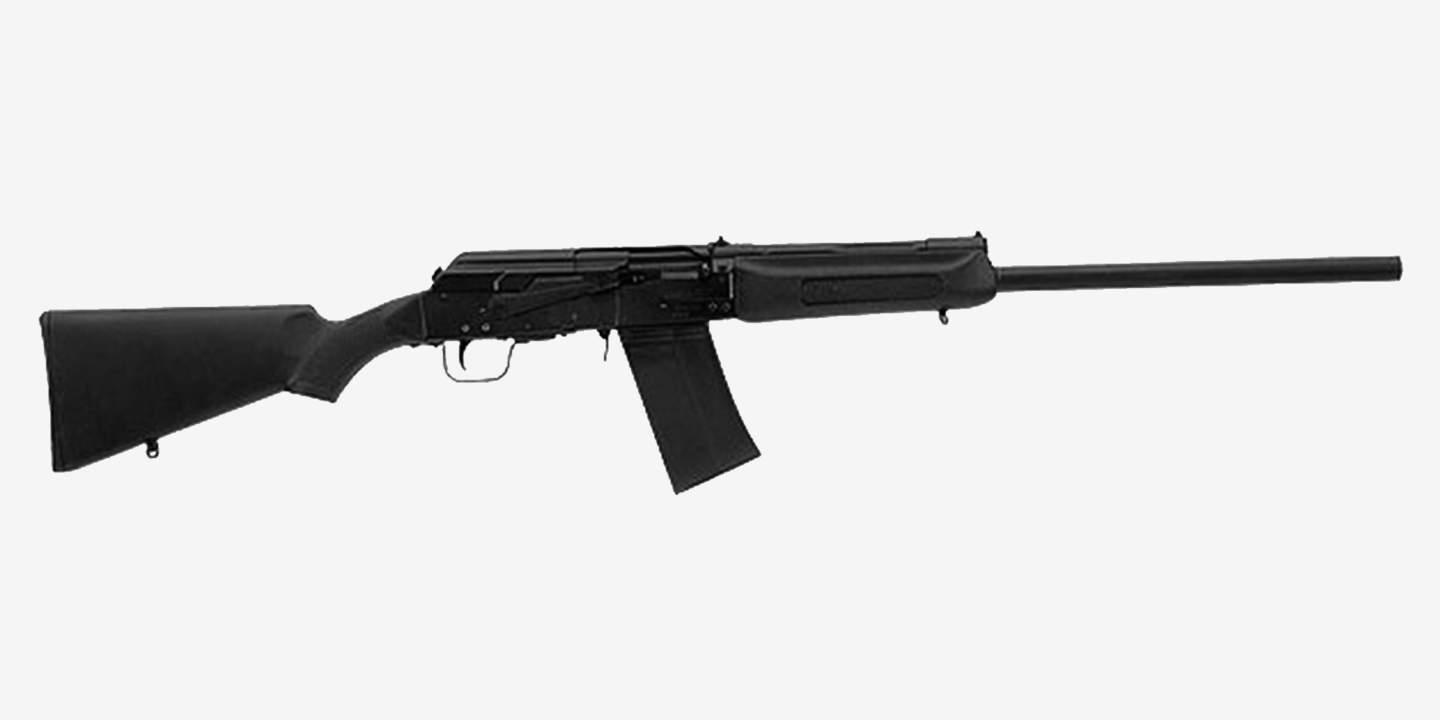larga: (40, 228, 1403, 497)
